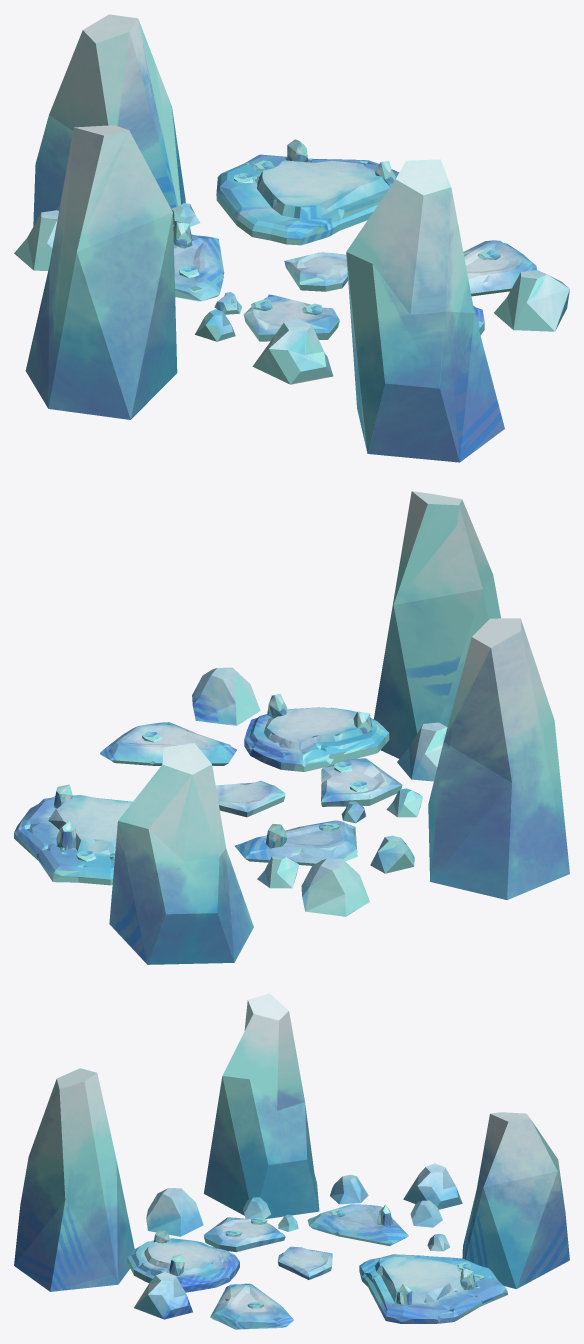
Rendered from banquise.glb.
The picture shows the model from 3 angles, top to bottom: view 1: azimuth 30°, elevation 25°; view 2: azimuth 150°, elevation 25°; view 3: azimuth 270°, elevation 25°; orthographic projection. The views are drawn at different scales.
Visible parts, largest first — view 1: Banquise.001; view 2: Banquise.001; view 3: Banquise.001.
Boxes of the visible parts, x1,y1,x2,y2 form: Banquise.001: [14, 14, 569, 462]; Banquise.001: [14, 491, 569, 964]; Banquise.001: [14, 993, 569, 1329].
Bounding box in the file's own units: 51.43 × 26.86 × 69.08.
1 material, 1 textured.
